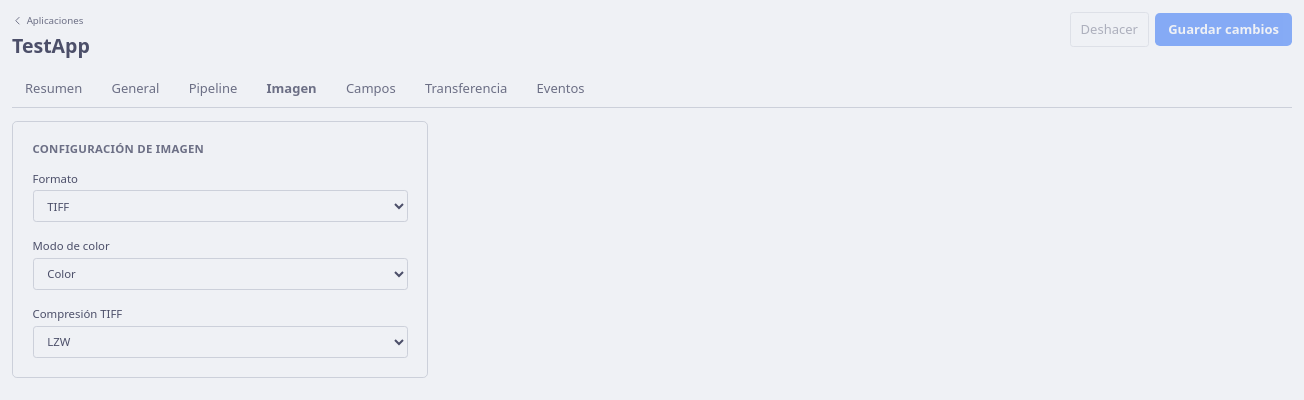
Test: ImageConfigEditorView › tras guardar correctamente, hasChanges vuelve a false
Step 1. Select "JPEG" in the dropdown with test id "select-format" → (220, 206), box x1=32 y1=190 x2=408 y2=222
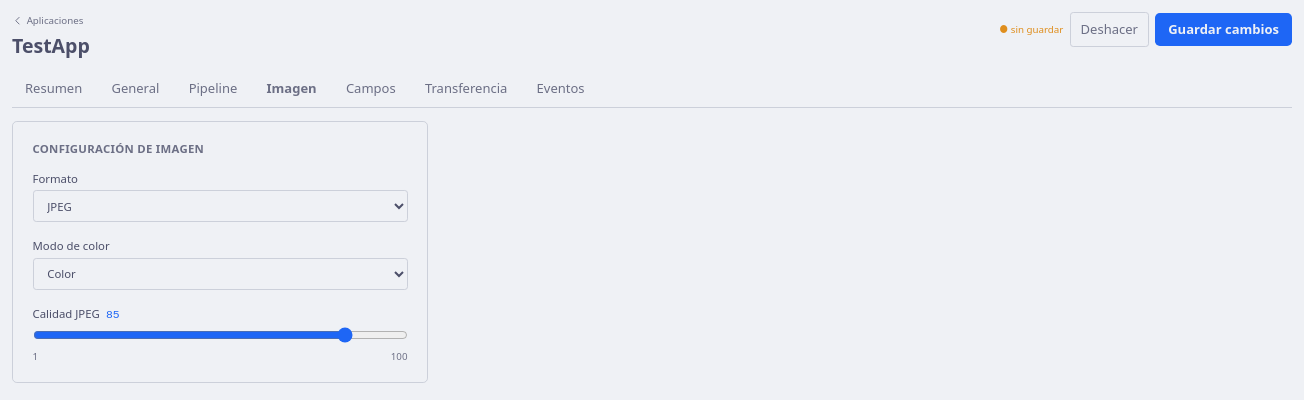
expect the button with test id "save-image-config" is enabled: met
Step 2. Click the button with test id "save-image-config" → click(1224, 29), box x1=1155 y1=13 x2=1292 y2=46
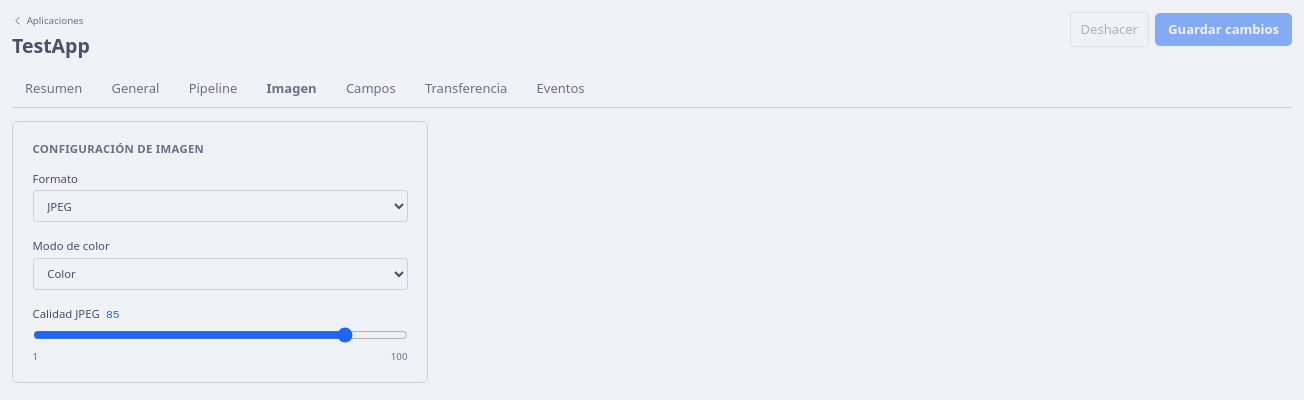
expect the button with test id "save-image-config" is disabled: met, box x1=1155 y1=13 x2=1292 y2=46
